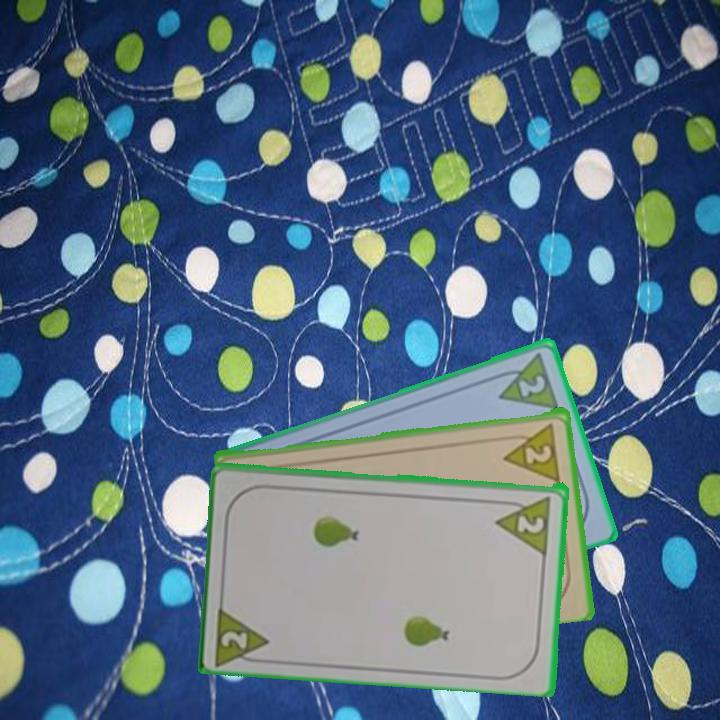2p: (211, 600, 274, 666), (499, 419, 563, 482), (493, 492, 554, 555), (515, 371, 549, 400)
